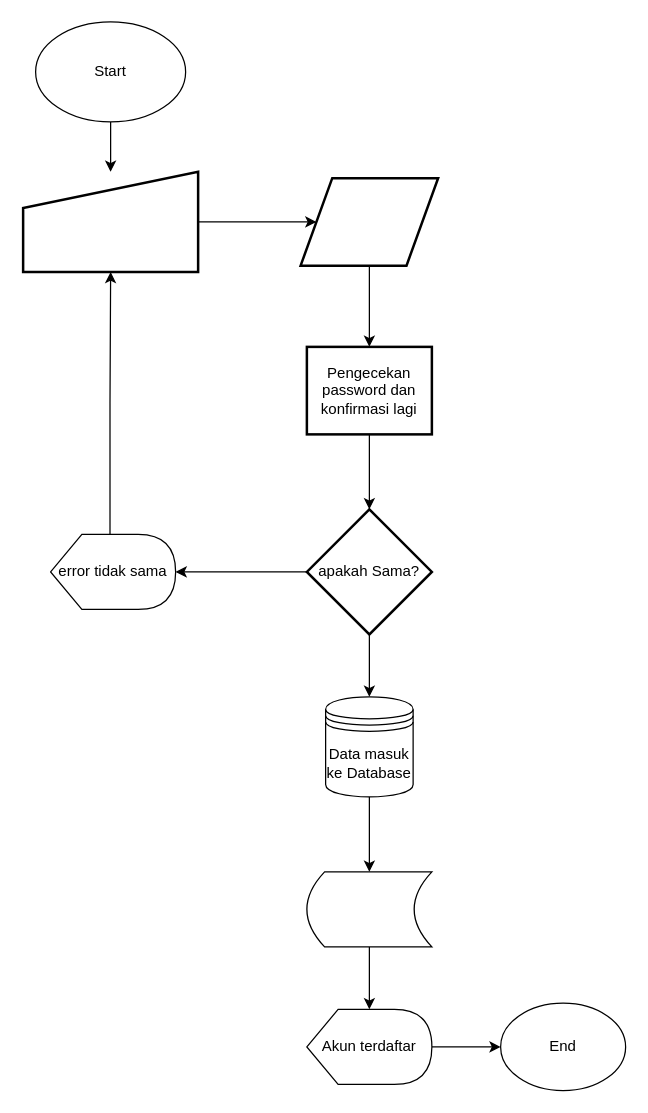
The diagram is 648 pixels wide and 1113 high, and some of its shapes have lost their labels. Here are the shapes that lost their labels. From the top down, the box of each, then its label:
(21, 170, 199, 272): input username, password dan konfirmasi
(299, 176, 439, 266): mengirim ke sistem
(306, 871, 432, 947): Disimpan di database
